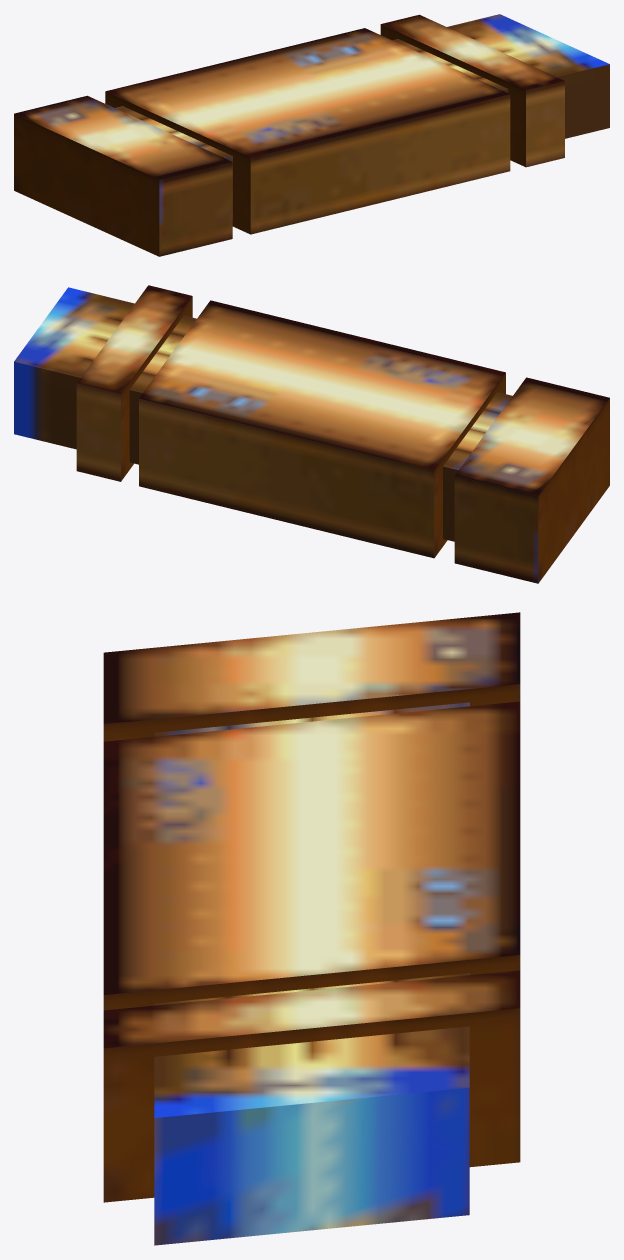
The picture shows the model from 3 angles, top to bottom: view 1: azimuth 30°, elevation 25°; view 2: azimuth 150°, elevation 25°; view 3: azimuth 270°, elevation 25°; orthographic projection. The views are drawn at different scales.
Visible parts, largest first — view 1: aw211; view 2: aw211; view 3: aw211.
Boxes of the visible parts, x1,y1,x2,y2 form: aw211: [14, 14, 609, 256]; aw211: [14, 285, 609, 583]; aw211: [103, 612, 520, 1245].
Size of the model in its own units: 14.56 by 2.13 by 5.2.
Materials: 1 (1 with a texture image).
